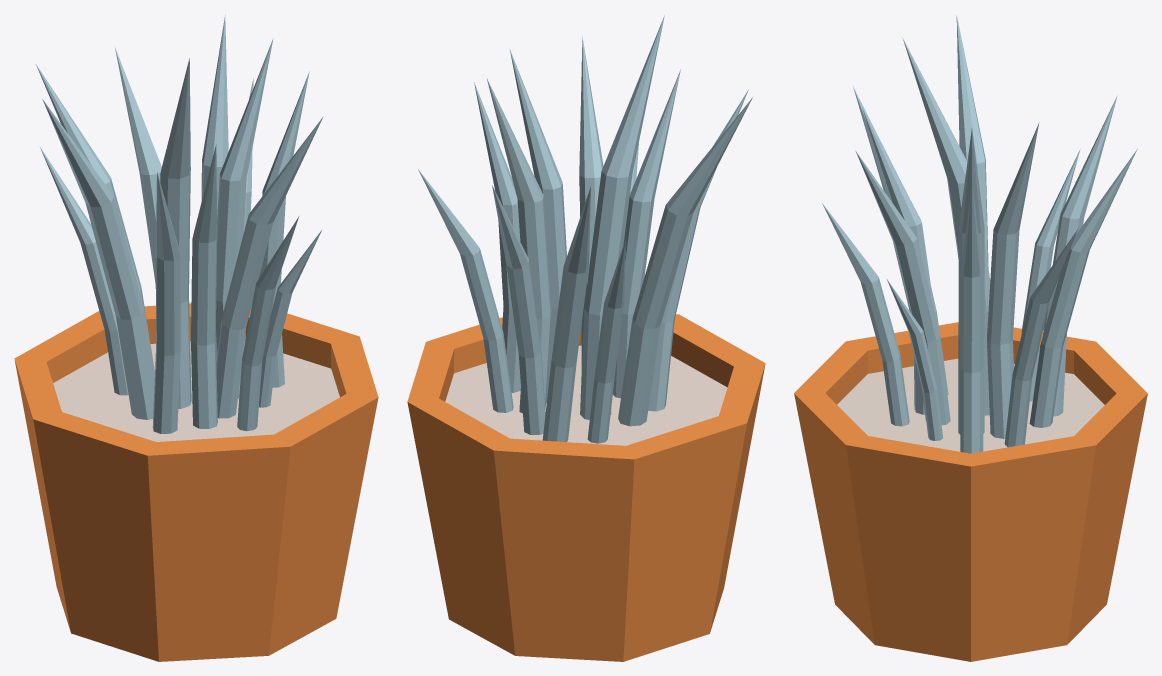
Rendered from Bedroom3_flower.fbx.
3 renders of one model, left to right at view 1: azimuth 30°, elevation 25°; view 2: azimuth 150°, elevation 25°; view 3: azimuth 270°, elevation 25°, orthographic. The views are drawn at different scales.
Visible parts, largest first — view 1: Bedroom3_flower; view 2: Bedroom3_flower; view 3: Bedroom3_flower.
Boxes of the visible parts, x1,y1,x2,y2 form: Bedroom3_flower: (14, 15, 378, 661); Bedroom3_flower: (407, 15, 765, 661); Bedroom3_flower: (794, 15, 1147, 661).
Bounding box in the file's own units: 26.72 × 45.63 × 26.73.
